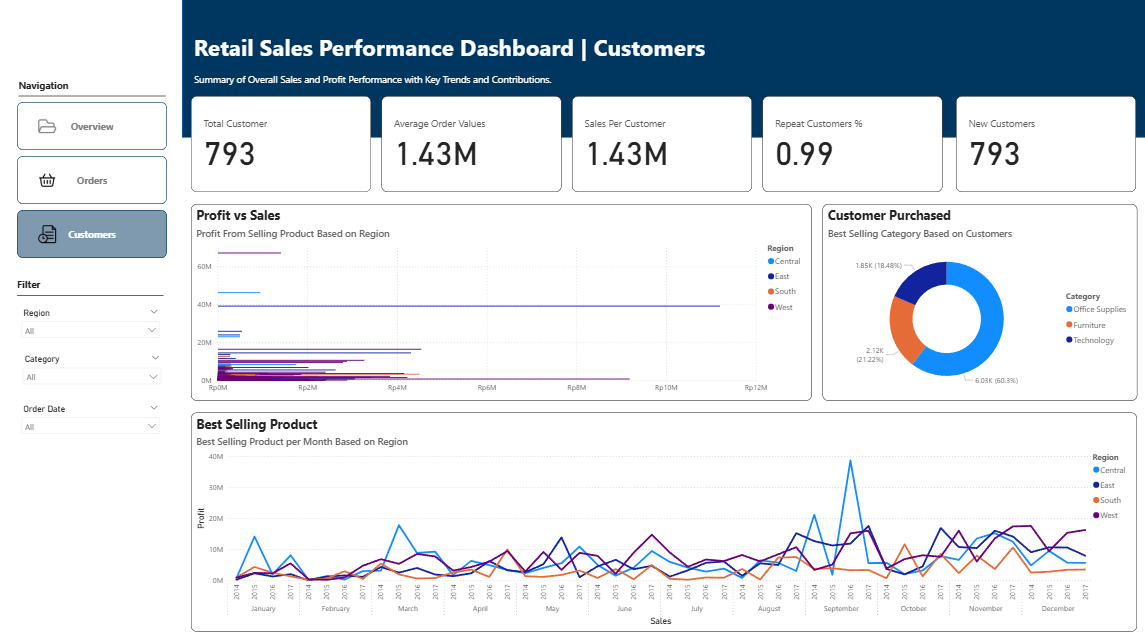

This screenshot's page, from the dashboard's own definition file:
{"tool":"powerbi","page":{"name":"Customers","canvas":[1920,1080],"ordinal":2},"visuals":[{"type":"shape","box":[0,0,310,1080],"z":0},{"type":"textbox","box":[33.3,131.1,100,100],"z":0,"group":"g4"},{"type":"shape","box":[38.3,115,245,100],"z":1000,"group":"g4"},{"type":"group","id":"g1","title":"Group 1","box":[34.4,174.4,250,80],"z":1000},{"type":"image","box":[64.4,194.4,40,40],"z":1000,"group":"g1"},{"type":"actionButton","box":[34.4,264.4,250,80],"z":1000,"group":"g2"},{"type":"actionButton","box":[34.4,354.4,250,80],"z":1000,"group":"g3"},{"type":"group","id":"g2","title":"Group 2","box":[34.4,264.4,250,80],"z":2000},{"type":"actionButton","box":[34.4,174.4,250,80],"z":3000,"group":"g1"},{"type":"image","box":[64.4,284.4,40,40],"z":3000,"group":"g2"},{"type":"group","id":"g3","title":"Group 3","box":[34.4,354.4,250,80],"z":3000},{"type":"image","box":[64.4,374.4,40,40],"z":3002,"group":"g3"},{"type":"slicer","fields":{"Values":["superstore_cleaned.Region"]},"box":[33.3,512.2,250,65.6],"z":4000},{"type":"slicer","fields":{"Values":["superstore_cleaned.Category"]},"box":[34.4,590,250,64.4],"z":5000},{"type":"group","id":"g4","title":"Group 4","box":[33.3,115,250,116.1],"z":6000},{"type":"textbox","box":[31.1,461.7,100,100],"z":6000,"group":"g5"},{"type":"group","id":"g5","title":"Group 5","box":[31.1,447.8,248.9,114.4],"z":7000},{"type":"shape","box":[36.1,447.8,244.4,100],"z":7000,"group":"g5"},{"type":"slicer","fields":{"Values":["superstore_cleaned.Order Date.Variation.Date Hierarchy.Year"]},"box":[33.3,673.3,250,64.4],"z":8000},{"type":"shape","box":[310,0,1610,234.3],"z":9000},{"type":"textbox","box":[326,52,1202,100],"z":10000},{"type":"cardVisual","fields":{"Data":["superstore_cleaned.Total Customer"]},"box":[325,165,300,160],"z":11000},{"type":"cardVisual","fields":{"Data":["superstore_cleaned.Average Order Values"]},"box":[642.5,165,300,160],"z":12000},{"type":"cardVisual","fields":{"Data":["superstore_cleaned.Sales Per Customer"]},"box":[960,165,300,160],"z":13000},{"type":"cardVisual","fields":{"Data":["superstore_cleaned.RepeatCustomersPct"]},"box":[1277.5,165,300,160],"z":14000},{"type":"cardVisual","fields":{"Data":["superstore_cleaned.New Customers"]},"box":[1600,165,300,160],"z":15000},{"type":"barChart","title":"Profit vs Sales","fields":{"Category":["superstore_cleaned.Profit"],"Y":["superstore_cleaned.Total Sales"],"Series":["superstore_cleaned.Region"]},"box":[325.5,344.9,1034.7,327.9],"z":16000},{"type":"donutChart","title":"Customer Purchased","fields":{"Y":["CountNonNull(superstore_cleaned.Customer ID)"],"Category":["superstore_cleaned.Category"]},"box":[1377.2,344.9,524.6,327.9],"z":17000},{"type":"lineChart","title":"Best Selling Product","fields":{"Series":["superstore_cleaned.Region"],"Y":["Sum(superstore_cleaned.Sales)"],"Category":["superstore_cleaned.Order Date.Variation.Date Hierarchy.Month","superstore_cleaned.Order Date.Variation.Date Hierarchy.Year"]},"box":[325,693.3,1576.7,365],"z":18000}]}

Visuals, with their boxes on the page's 1920x1080 design canvas (x1, y1, x2, y2). These are canvas units, not pixel positions in the 1145x641 screenshot, which may show the page scaled, cropped or inside an application window:
shape: bbox(0, 0, 310, 1080)
textbox: bbox(33, 131, 133, 231)
shape: bbox(38, 115, 283, 215)
"Group 1" group: bbox(34, 174, 284, 254)
image: bbox(64, 194, 104, 234)
actionButton: bbox(34, 264, 284, 344)
actionButton: bbox(34, 354, 284, 434)
"Group 2" group: bbox(34, 264, 284, 344)
actionButton: bbox(34, 174, 284, 254)
image: bbox(64, 284, 104, 324)
"Group 3" group: bbox(34, 354, 284, 434)
image: bbox(64, 374, 104, 414)
slicer - superstore_cleaned.Region: bbox(33, 512, 283, 578)
slicer - superstore_cleaned.Category: bbox(34, 590, 284, 654)
"Group 4" group: bbox(33, 115, 283, 231)
textbox: bbox(31, 462, 131, 562)
"Group 5" group: bbox(31, 448, 280, 562)
shape: bbox(36, 448, 280, 548)
slicer - superstore_cleaned.Order Date.Variation.Date Hierarchy.Year: bbox(33, 673, 283, 738)
shape: bbox(310, 0, 1920, 234)
textbox: bbox(326, 52, 1528, 152)
cardVisual - superstore_cleaned.Total Customer: bbox(325, 165, 625, 325)
cardVisual - superstore_cleaned.Average Order Values: bbox(642, 165, 942, 325)
cardVisual - superstore_cleaned.Sales Per Customer: bbox(960, 165, 1260, 325)
cardVisual - superstore_cleaned.RepeatCustomersPct: bbox(1278, 165, 1578, 325)
cardVisual - superstore_cleaned.New Customers: bbox(1600, 165, 1900, 325)
"Profit vs Sales" barChart: bbox(326, 345, 1360, 673)
"Customer Purchased" donutChart: bbox(1377, 345, 1902, 673)
"Best Selling Product" lineChart: bbox(325, 693, 1902, 1058)
